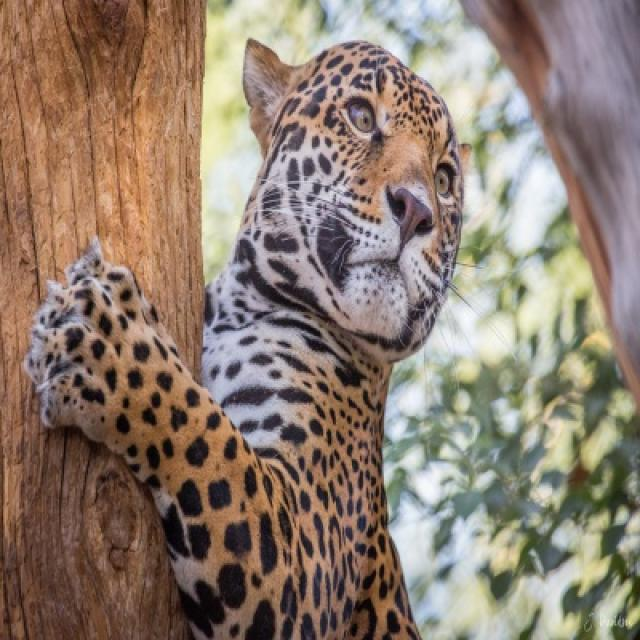Jaguar: (24, 38, 466, 638)
